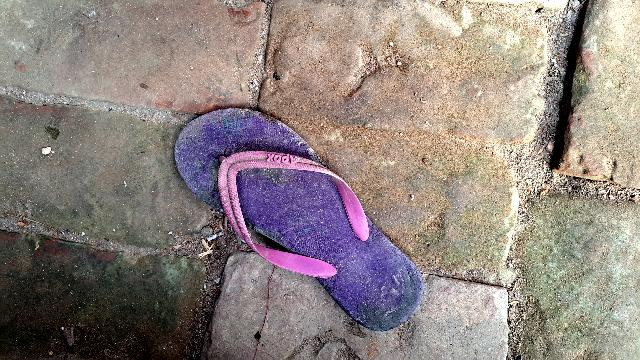sandal: (155, 74, 443, 360)
